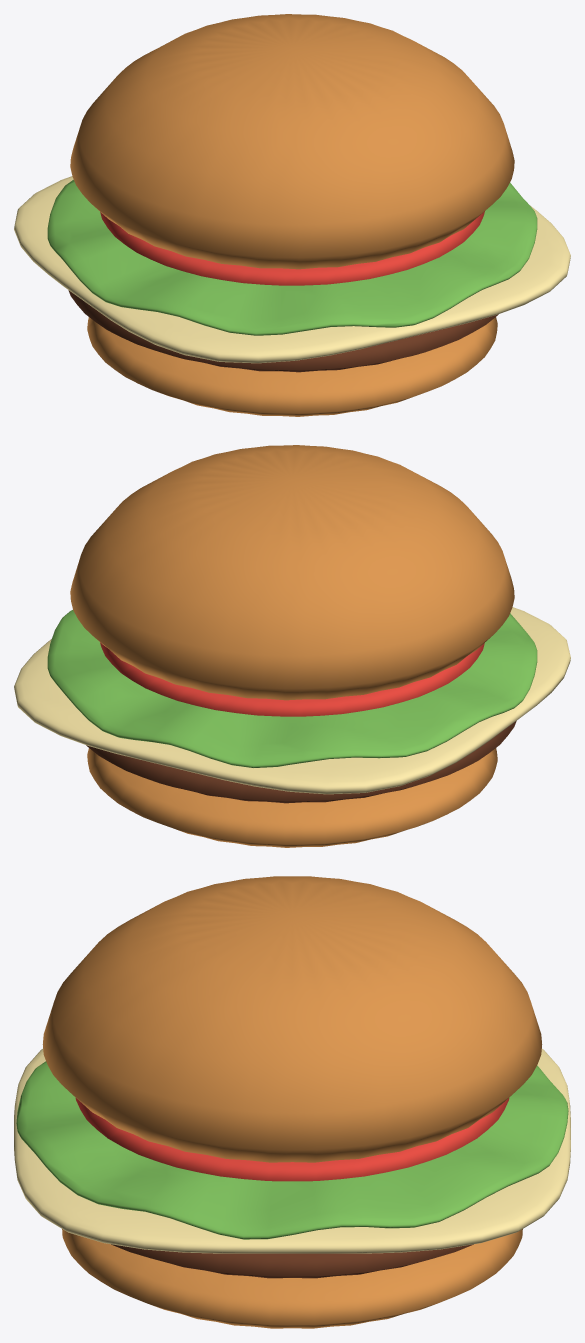
Rendered from comida_hamburguesa.glb.
The picture shows the model from 3 angles, top to bottom: view 1: azimuth 30°, elevation 25°; view 2: azimuth 150°, elevation 25°; view 3: azimuth 270°, elevation 25°; orthographic projection. The views are drawn at different scales.
Parts seen in each view (by area): view 1: pan arriba.001, lechuga.001, queso.002, pan abajo.001, tomate.001, carne.001; view 2: pan arriba.001, lechuga.001, queso.002, pan abajo.001, tomate.001, carne.001; view 3: pan arriba.001, lechuga.001, pan abajo.001, queso.002, tomate.001, carne.001.
Boxes of the visible parts, bbox=[...] form: pan arriba.001: bbox=[70, 14, 514, 269]; lechuga.001: bbox=[47, 179, 537, 335]; queso.002: bbox=[14, 176, 570, 363]; pan abajo.001: bbox=[87, 317, 497, 416]; tomate.001: bbox=[100, 211, 484, 285]; carne.001: bbox=[68, 290, 498, 372]; pan arriba.001: bbox=[70, 445, 514, 700]; lechuga.001: bbox=[47, 610, 537, 767]; queso.002: bbox=[14, 607, 570, 794]; pan abajo.001: bbox=[87, 748, 497, 847]; tomate.001: bbox=[100, 642, 484, 716]; carne.001: bbox=[86, 721, 516, 803]; pan arriba.001: bbox=[42, 876, 542, 1162]; lechuga.001: bbox=[16, 1061, 568, 1239]; pan abajo.001: bbox=[62, 1229, 522, 1328]; queso.002: bbox=[14, 1049, 570, 1253]; tomate.001: bbox=[75, 1098, 509, 1181]; carne.001: bbox=[111, 1244, 473, 1278].
Size of the model in its own units: 0.3195 by 0.2131 by 0.3195.
